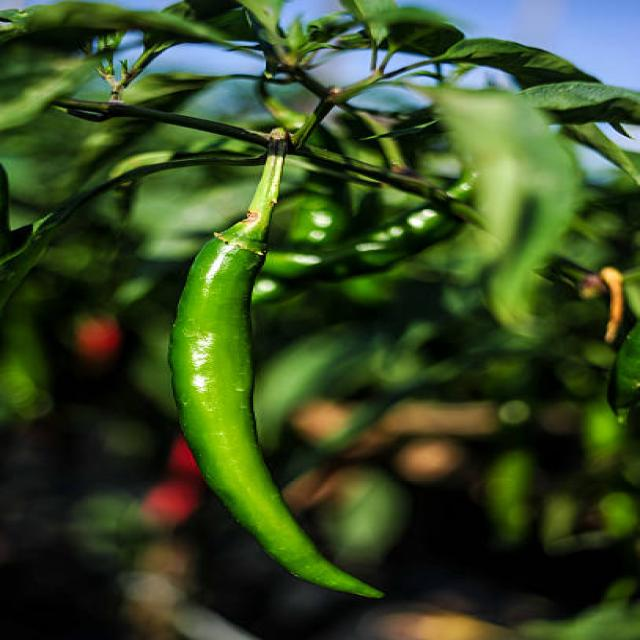Unripe: (168, 137, 384, 602)
